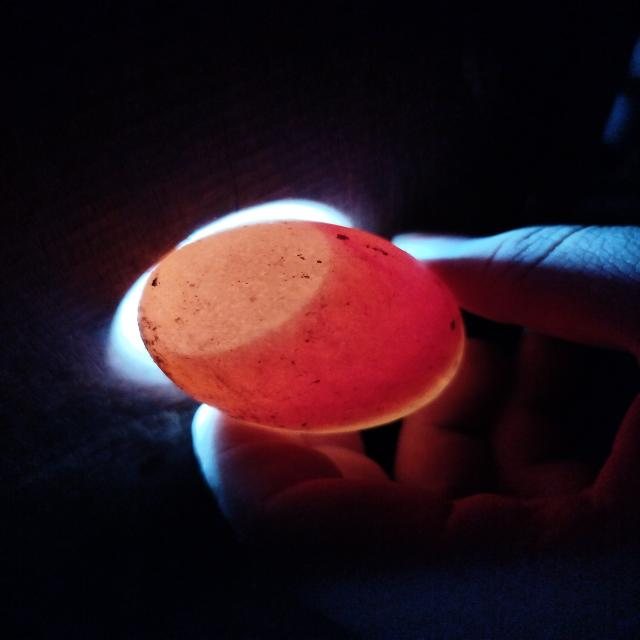Camara de Ar: (137, 219, 331, 356)
